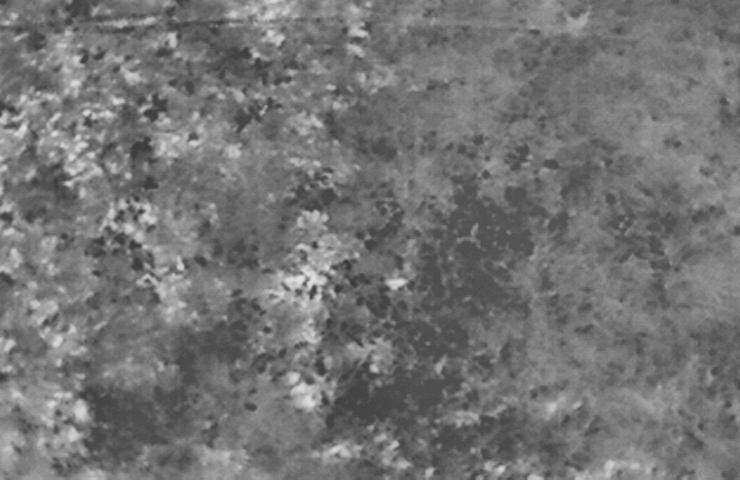landmines: (269, 219, 363, 310)
